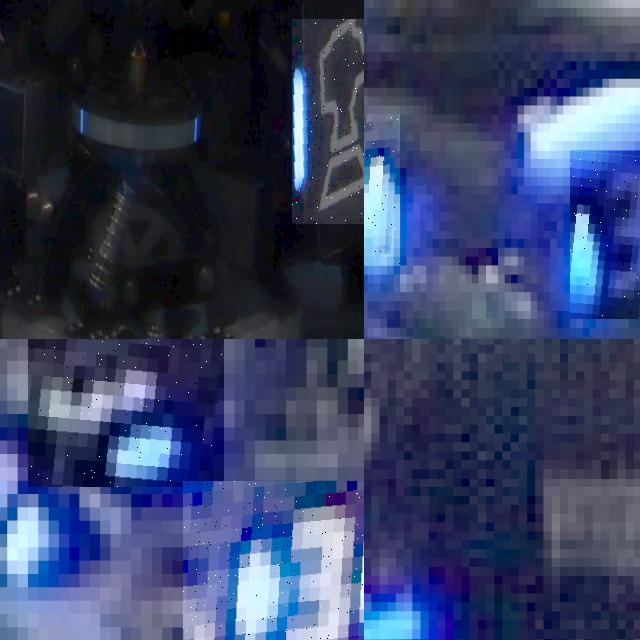B3: (182, 480, 364, 640), (28, 339, 224, 487), (0, 400, 90, 600), (569, 150, 640, 319), (364, 114, 400, 265)
Bs: (292, 19, 364, 224)
